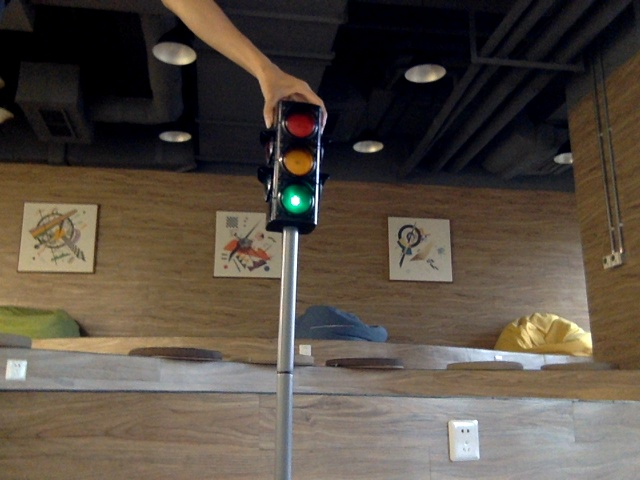green: (273, 111, 312, 219)
